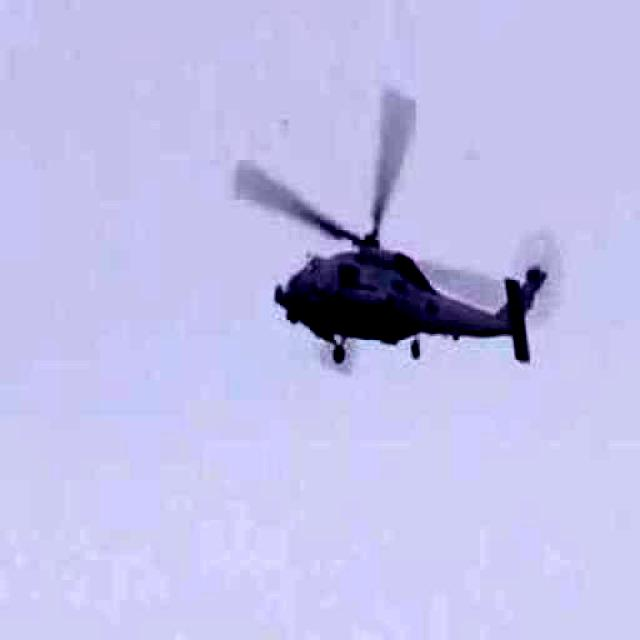drone: (206, 84, 578, 400)
